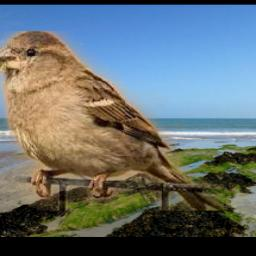Sparrow: (0, 31, 223, 211)
